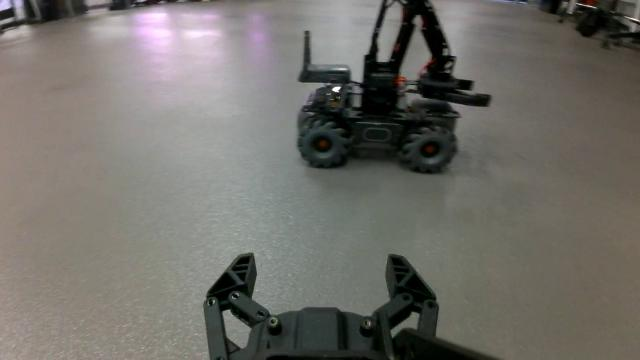robot: (297, 0, 492, 173)
